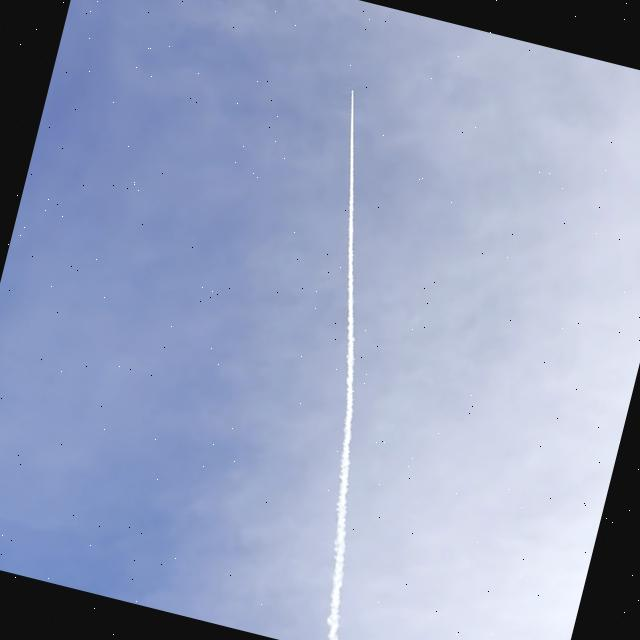smoke_trail_no_rocket: (326, 90, 354, 640)
